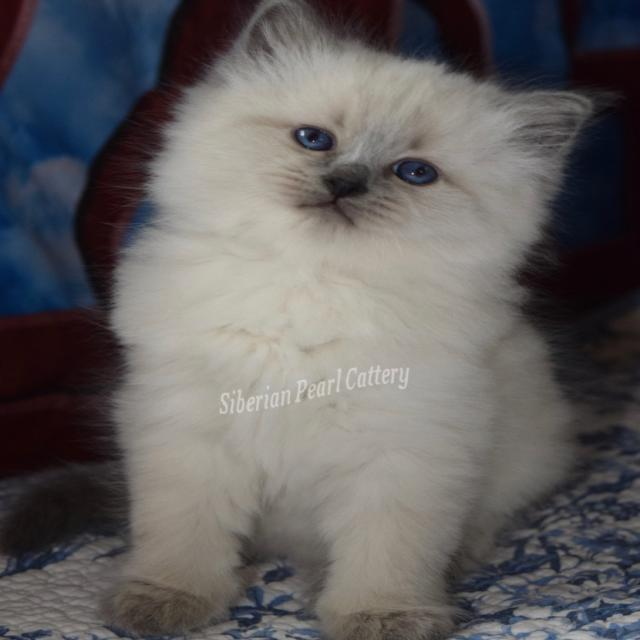Neva Masquerade: (0, 0, 605, 640)
